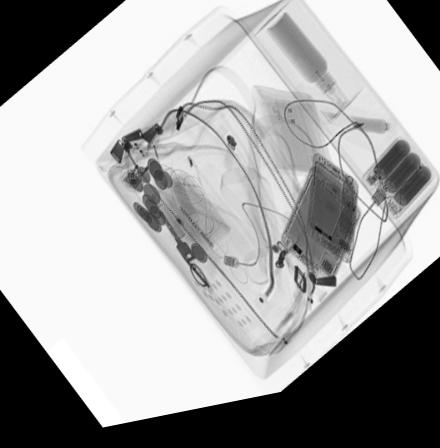Powerbank: (356, 142, 438, 237)
